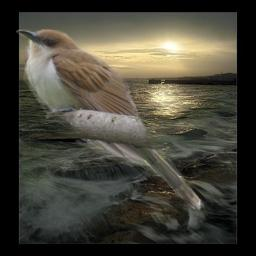Cuckoo: (16, 29, 204, 211)
